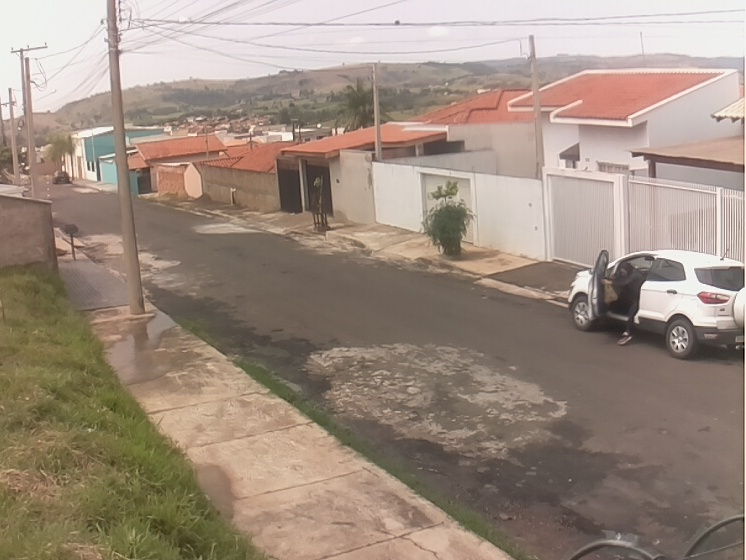person: (600, 261, 643, 347)
